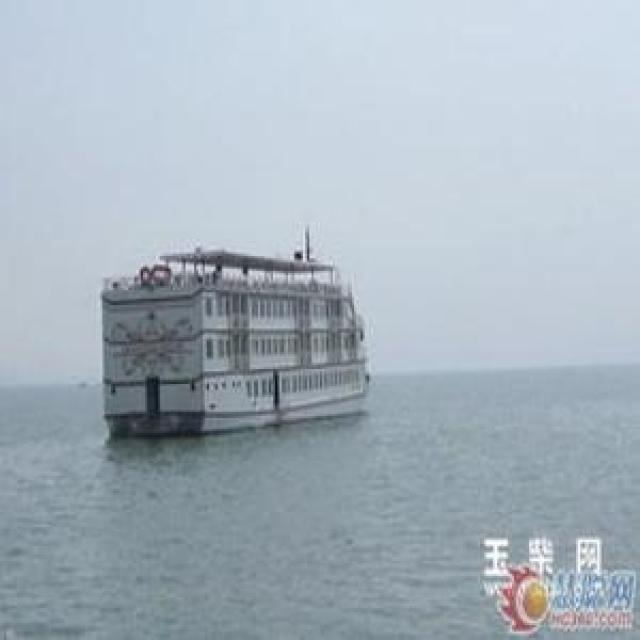passenger ship: (91, 236, 382, 426)
